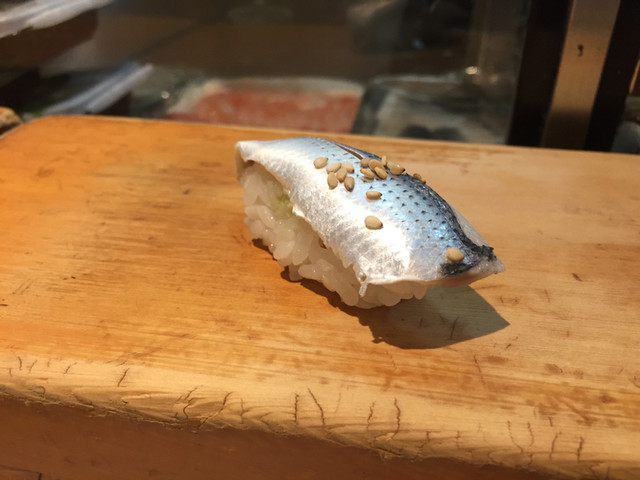spotted-shad: (226, 133, 506, 309)
